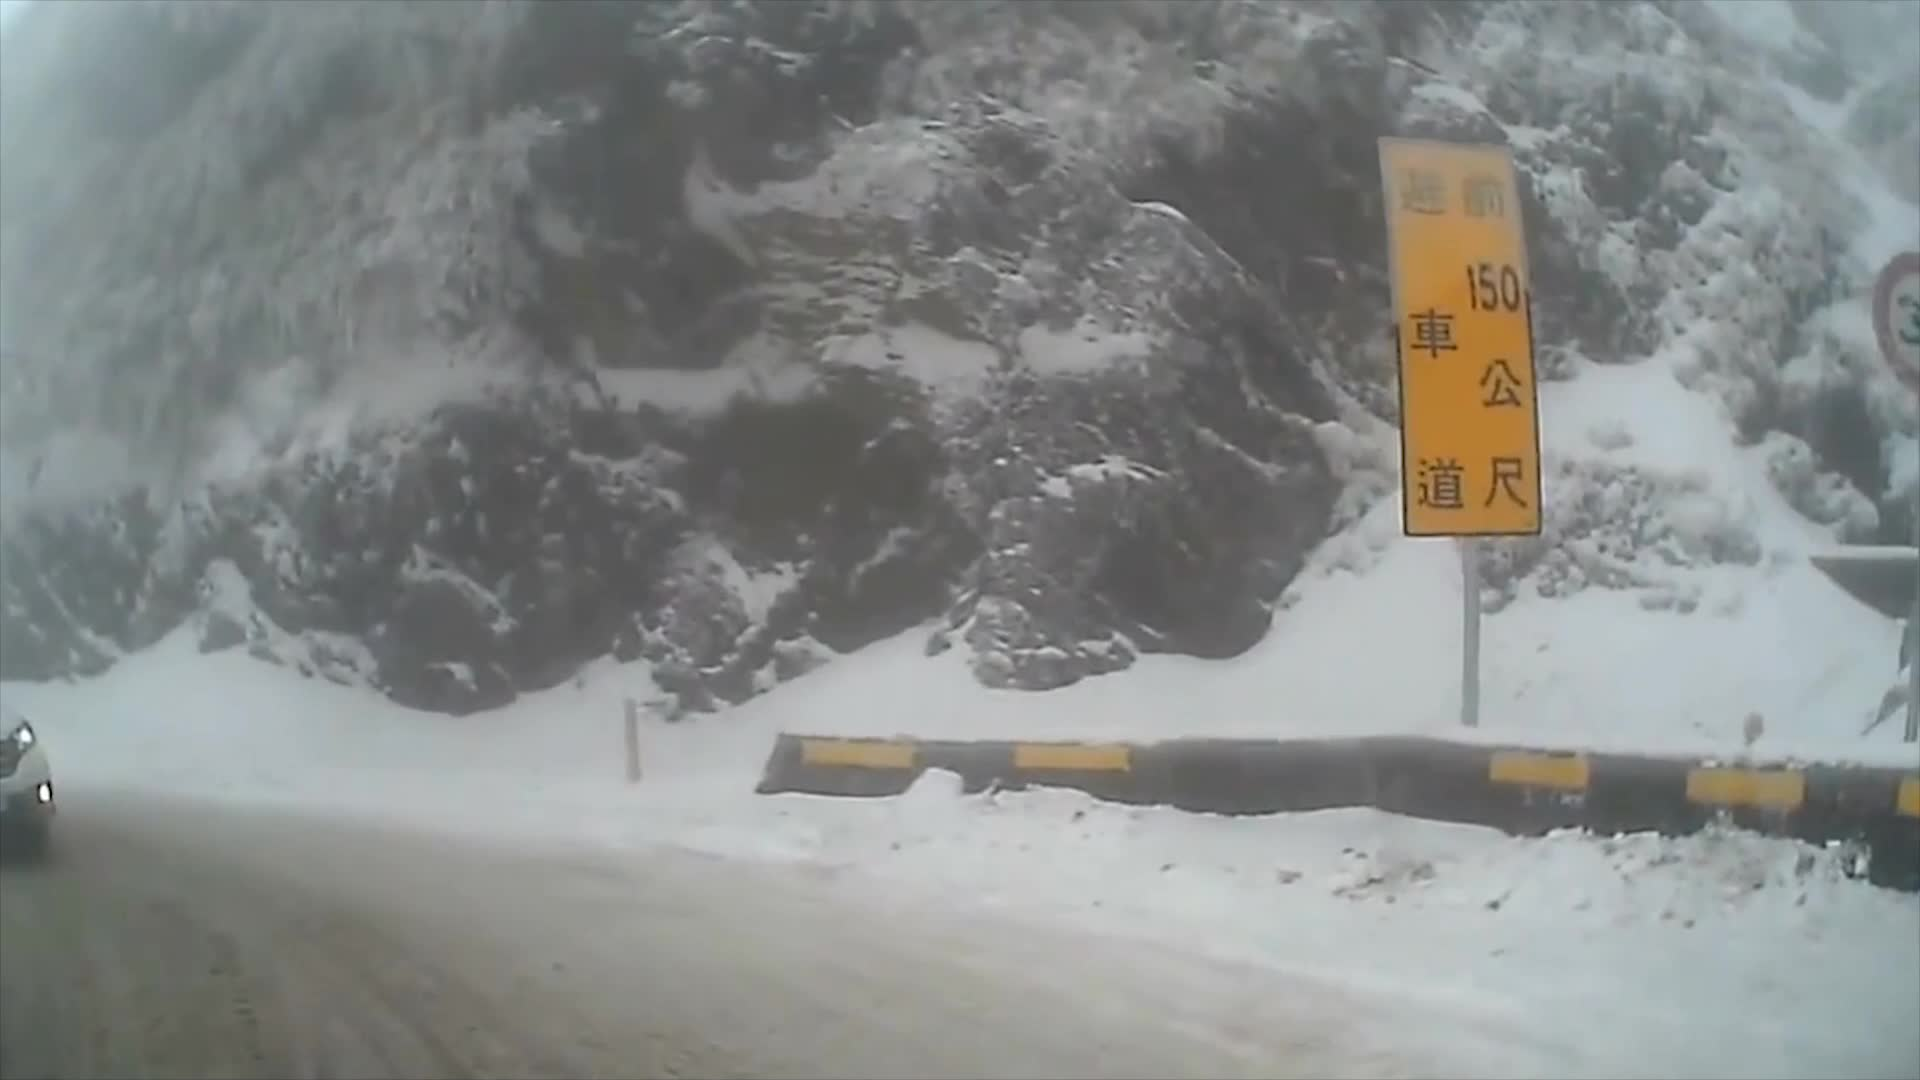vehicle: (1, 692, 54, 865)
